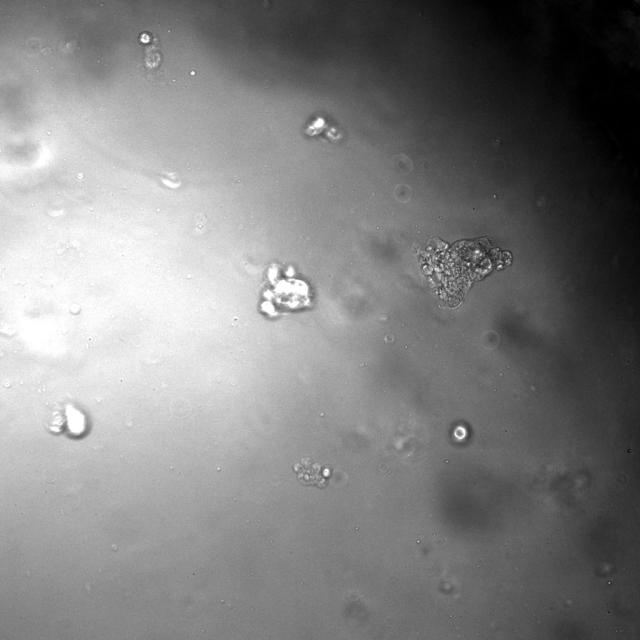organoid: (414, 236, 512, 307), (258, 263, 314, 319), (49, 403, 89, 438), (292, 457, 332, 488), (302, 114, 345, 142), (138, 30, 162, 70), (449, 420, 472, 445)
